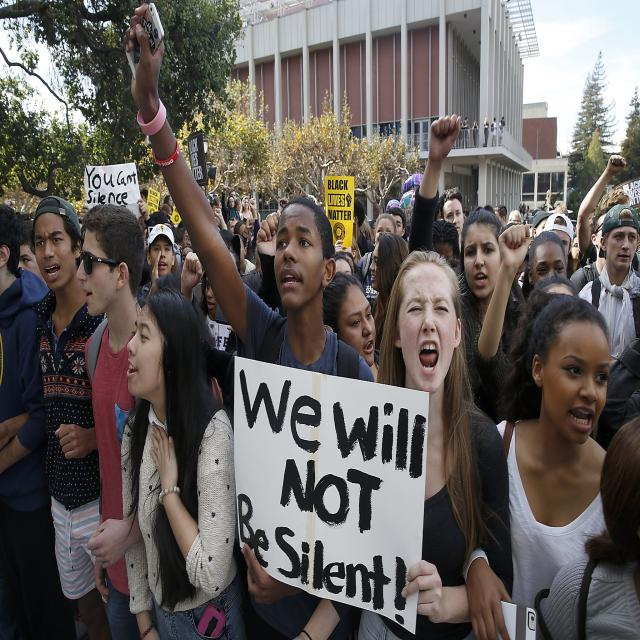body: (124, 3, 378, 640), (120, 164, 638, 290), (354, 249, 513, 640), (458, 289, 613, 640), (32, 193, 110, 639), (0, 204, 73, 640), (76, 204, 145, 640), (407, 114, 524, 363), (532, 415, 640, 640), (256, 210, 381, 383), (472, 224, 581, 400), (575, 203, 639, 363), (575, 152, 640, 272), (178, 249, 236, 353), (368, 230, 410, 351), (135, 223, 176, 298), (543, 211, 582, 280), (16, 218, 48, 288), (438, 187, 467, 253), (452, 116, 471, 150), (224, 195, 241, 229), (239, 195, 254, 232), (461, 116, 468, 149), (472, 120, 480, 147), (491, 116, 498, 146), (484, 116, 489, 147), (525, 206, 530, 224), (500, 116, 505, 133), (522, 201, 526, 218), (519, 202, 523, 216)
